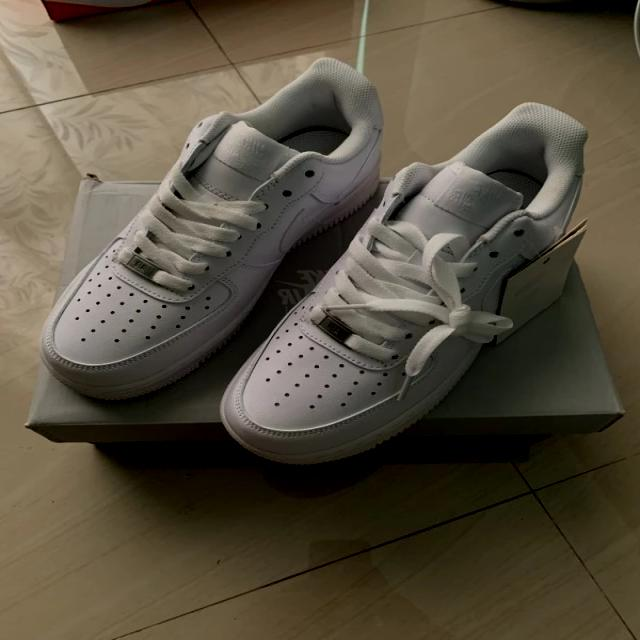nike_original_airforce: (192, 98, 634, 466), (25, 62, 382, 406)
